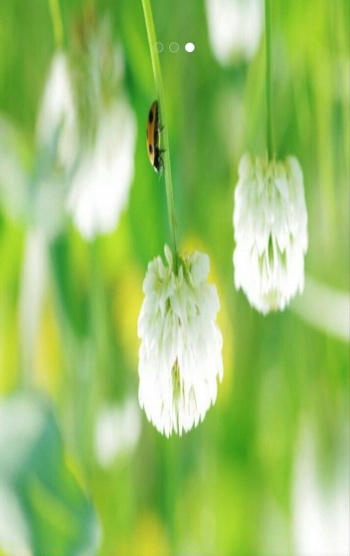ImgView: (1, 1, 349, 555)
